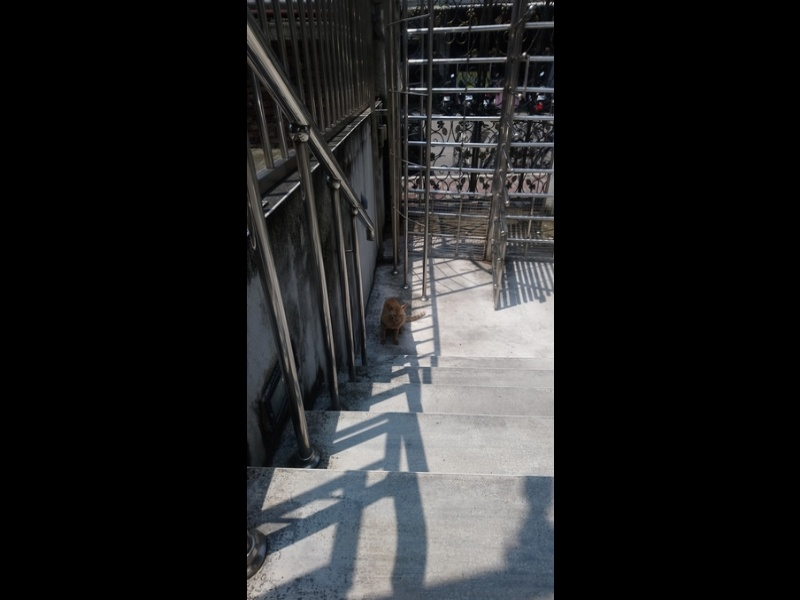cat: (378, 297, 428, 348)
